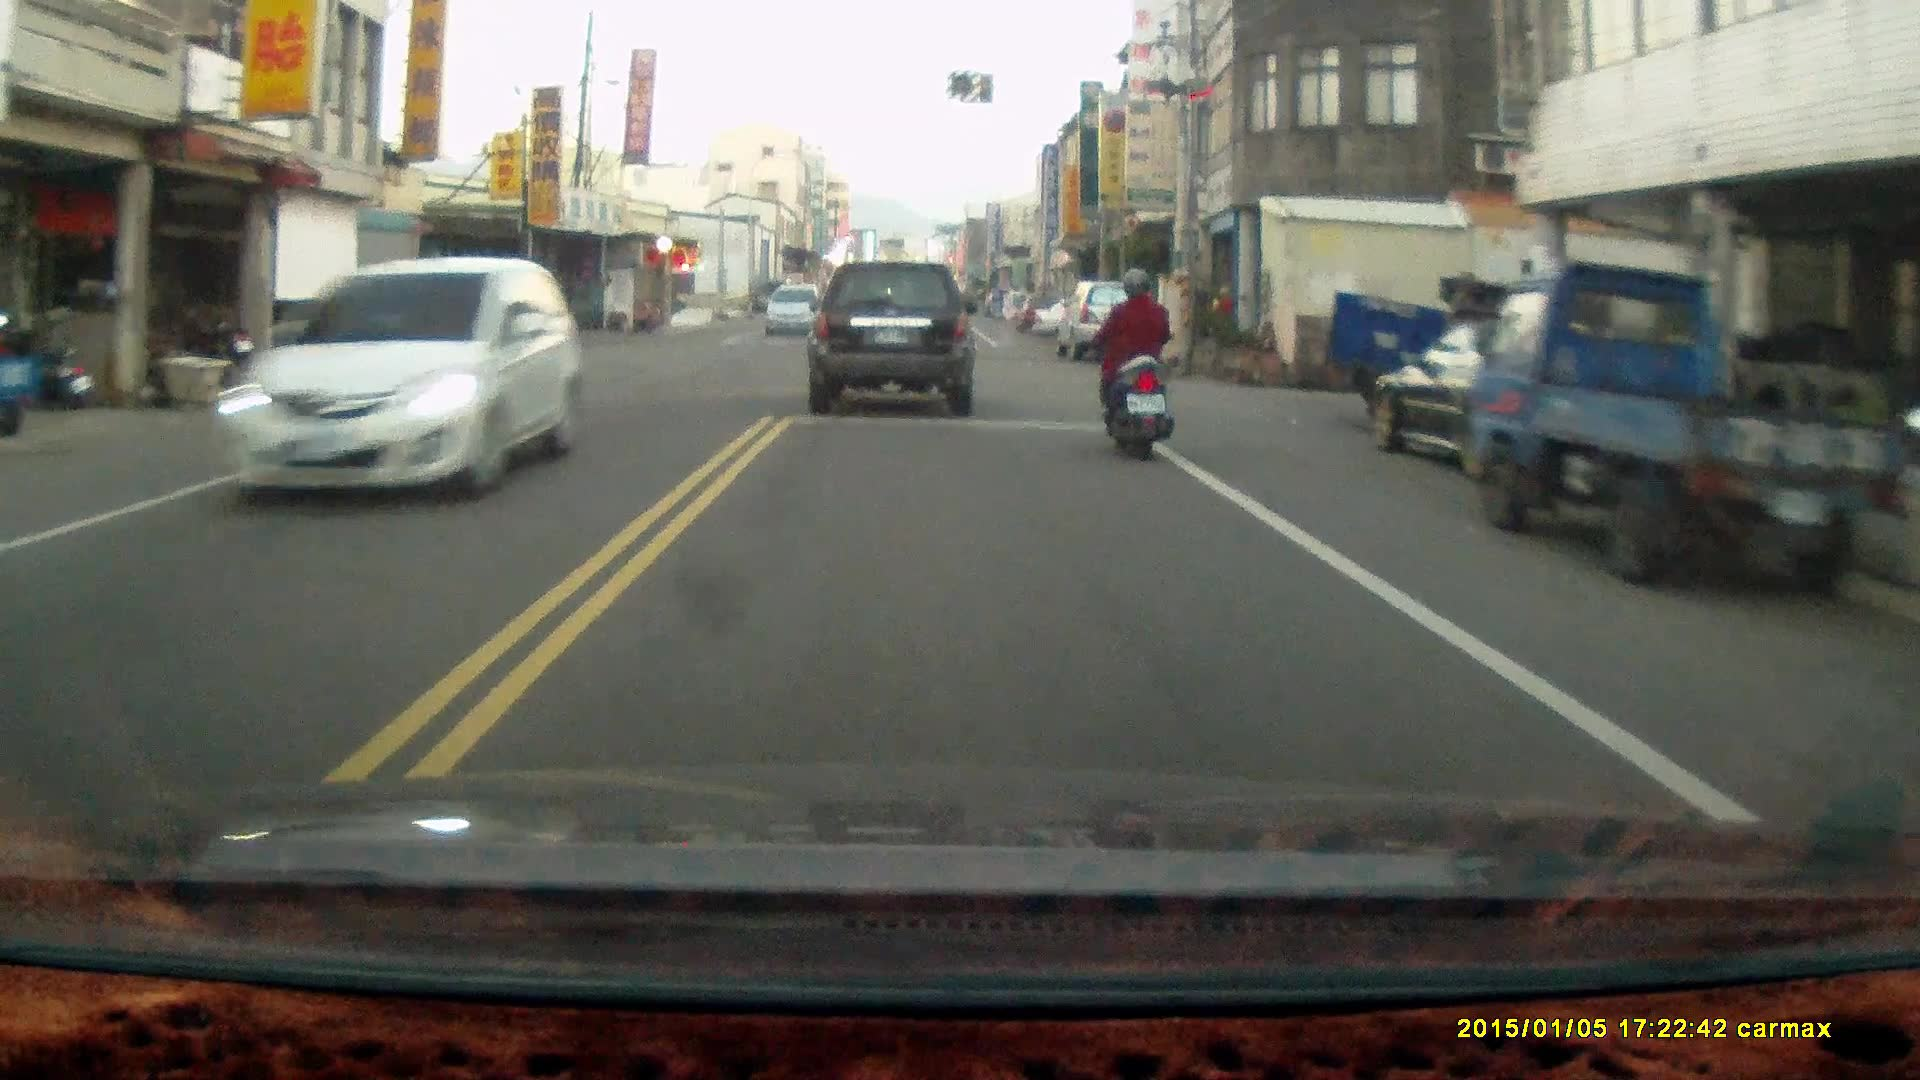rider: (1092, 267, 1173, 463)
vehicle: (1453, 254, 1907, 597), (221, 254, 584, 496), (1362, 319, 1685, 484), (1324, 279, 1582, 442), (806, 258, 982, 424), (1057, 280, 1156, 363)
